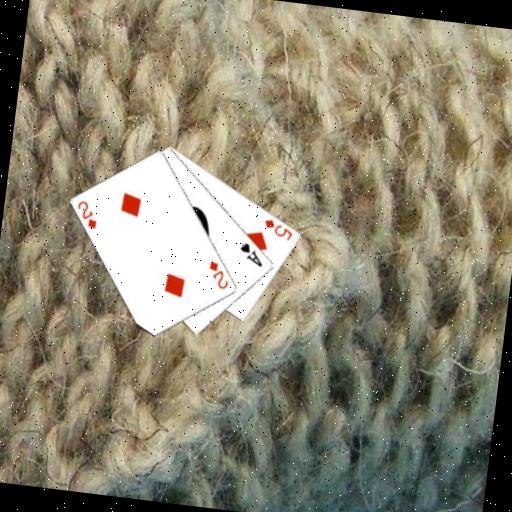2D: (204, 258, 233, 292), (72, 197, 101, 231)
5D: (260, 215, 296, 242)
AS: (236, 239, 268, 269)
